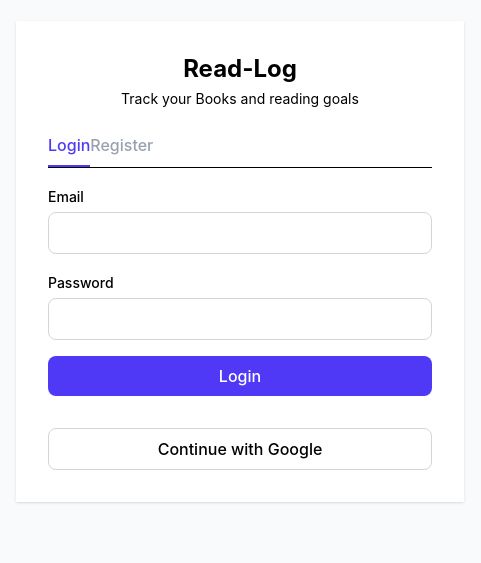
Test: Login page › shows the name field after clicking Register
Expected: the field labelled "Name" is not shown
Click the tab "Register" at (122, 148), box [90, 132, 153, 164]
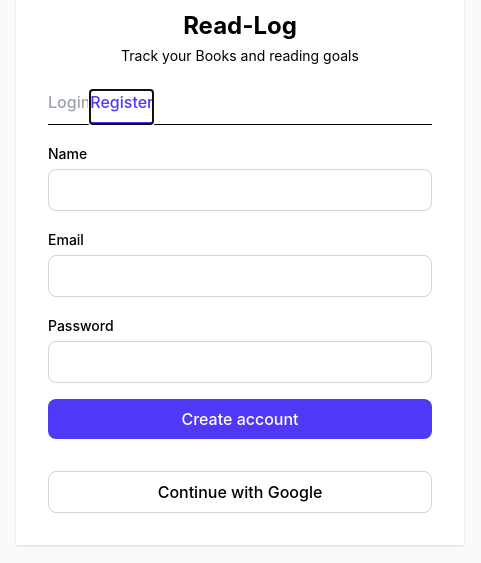
Result: the field labelled "Name" is shown at [48, 168, 432, 210]
